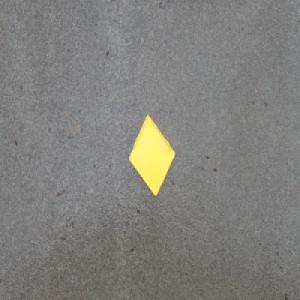PlasticPart: (128, 113, 176, 197)
